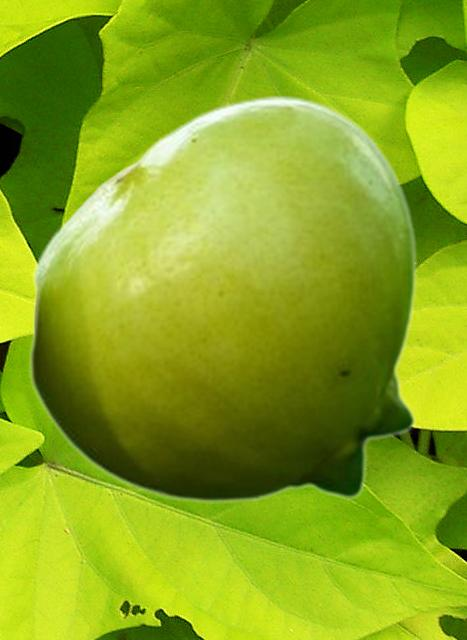guava: (27, 94, 417, 502)
